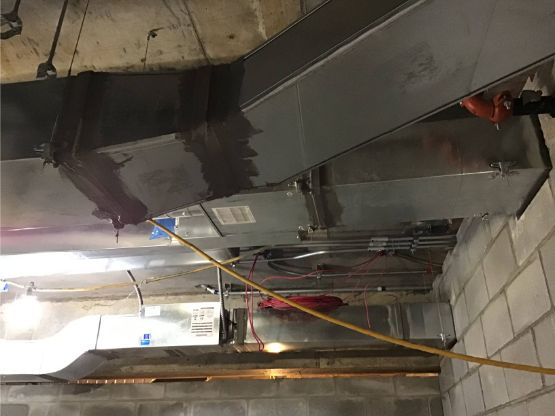Duct: (1, 1, 555, 266), (1, 285, 471, 393)
